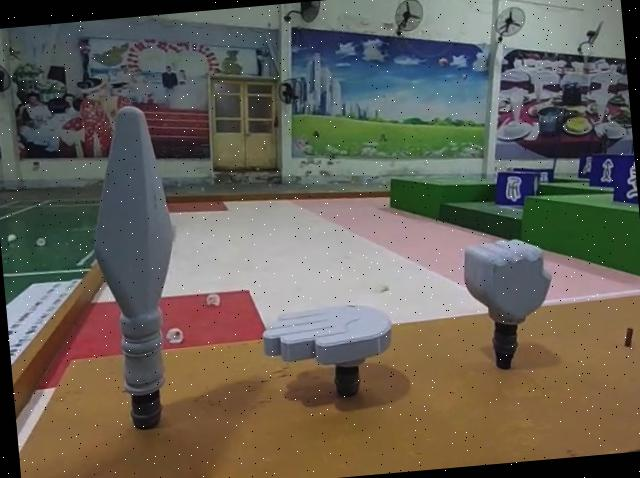Fist: (459, 228, 557, 373)
Hand: (253, 295, 394, 410)
Sph: (80, 100, 198, 439)
